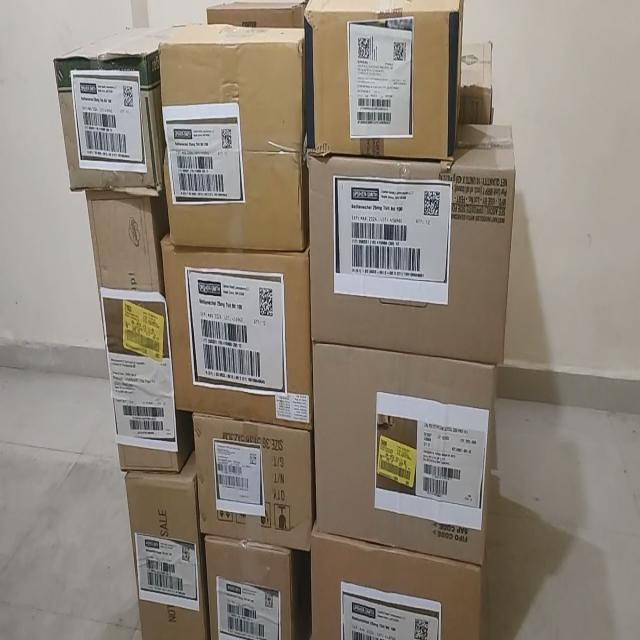BoxFace: (306, 121, 516, 364), (311, 340, 497, 564), (73, 177, 192, 473), (158, 22, 307, 252), (160, 232, 312, 428), (304, 0, 464, 163), (309, 520, 486, 637), (52, 22, 168, 196), (191, 411, 313, 551), (123, 458, 207, 637), (203, 534, 302, 638)
